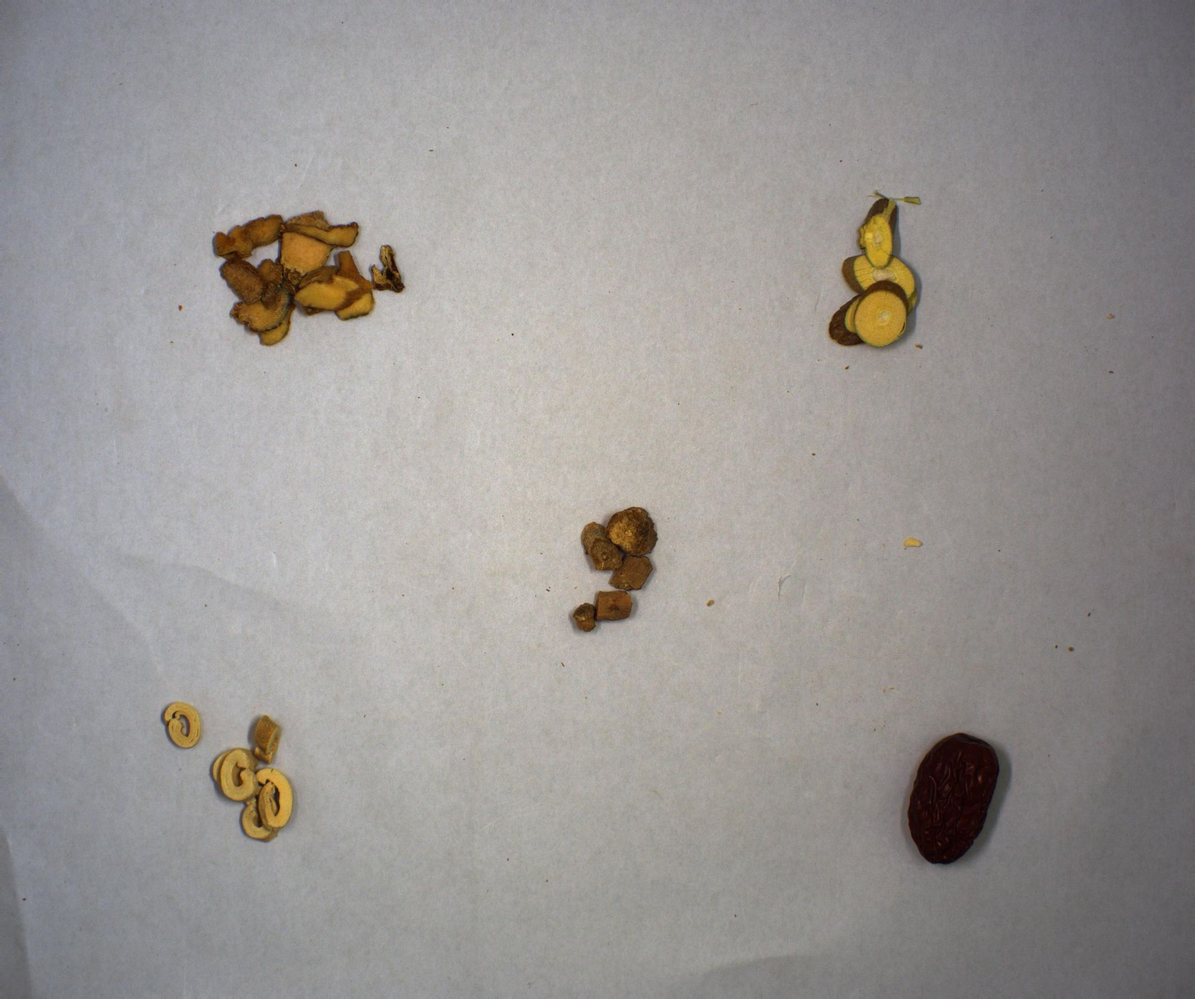baixianpi: (134, 674, 327, 882)
dazao: (904, 712, 1021, 894)
niuxi: (550, 493, 702, 673)
sangzhi: (811, 177, 931, 377)
yuzhu: (182, 187, 455, 384)
